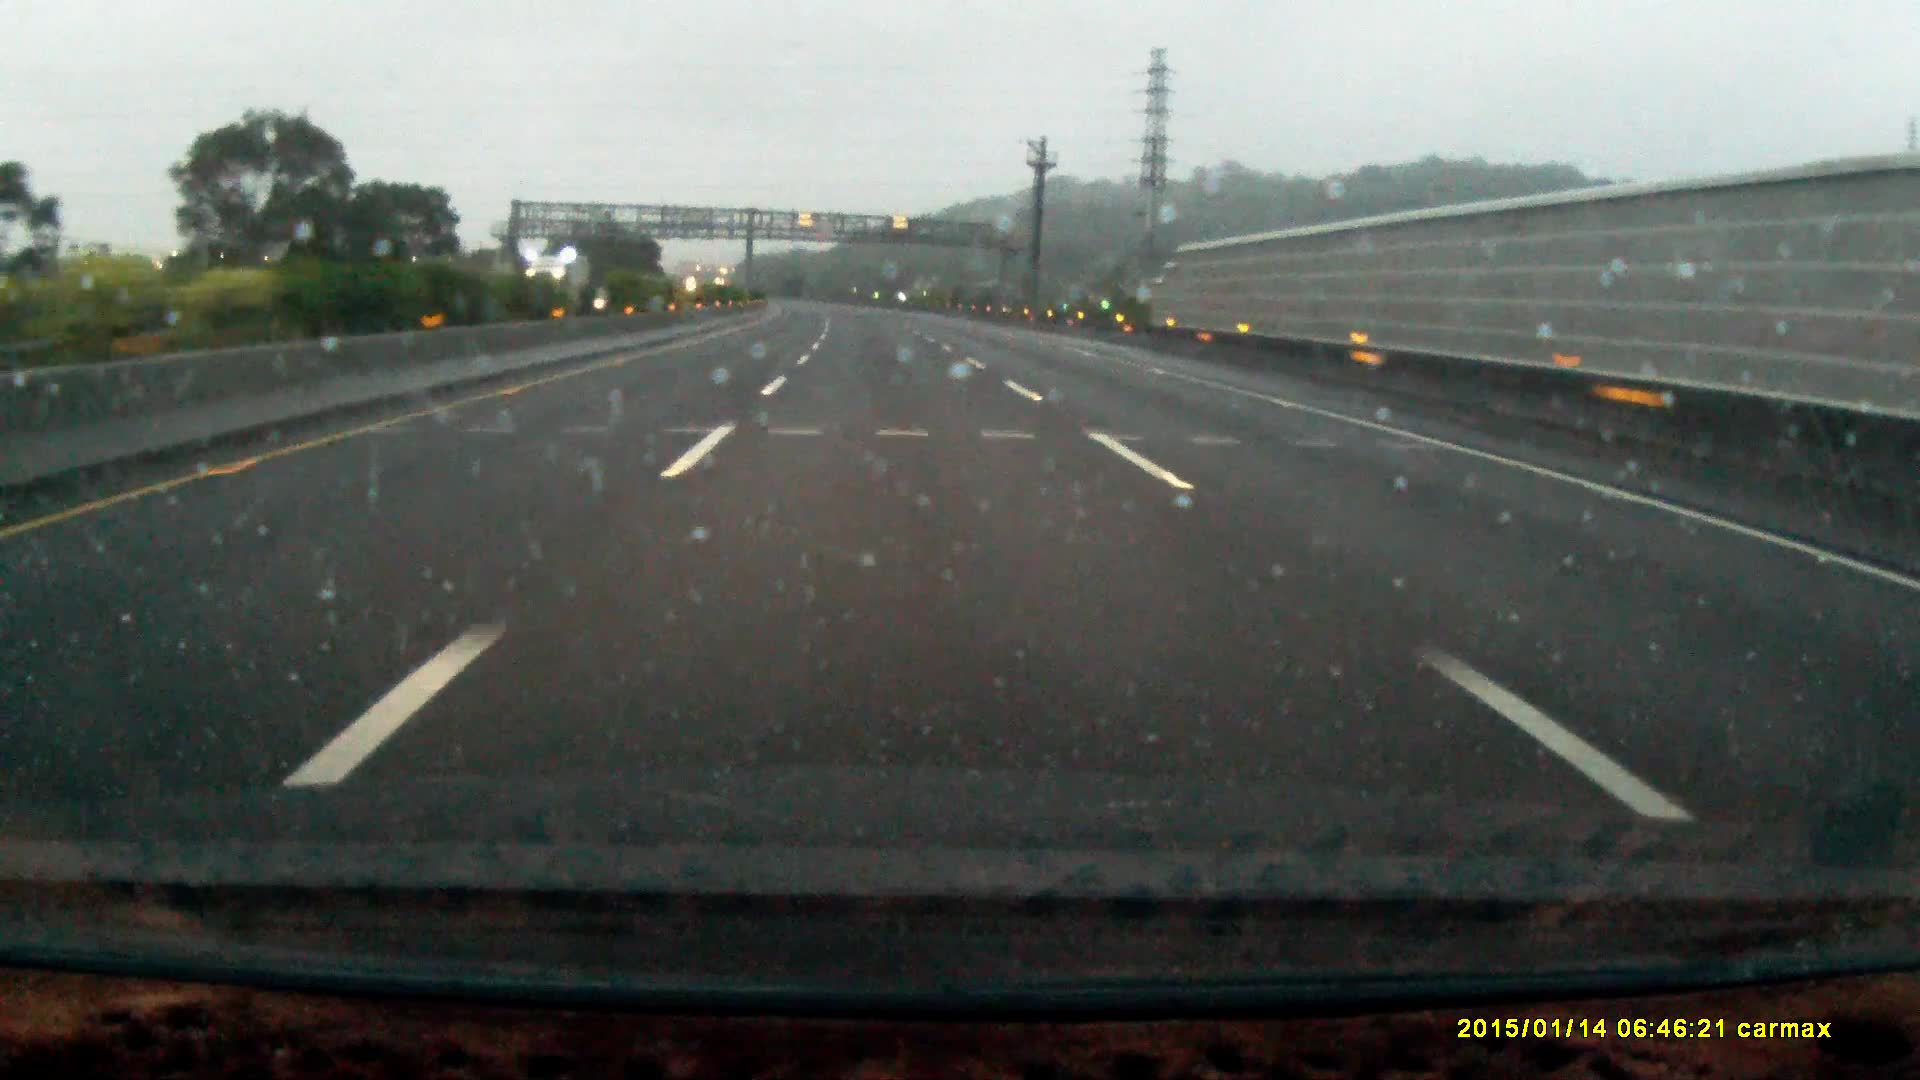vehicle: (524, 258, 589, 318)
